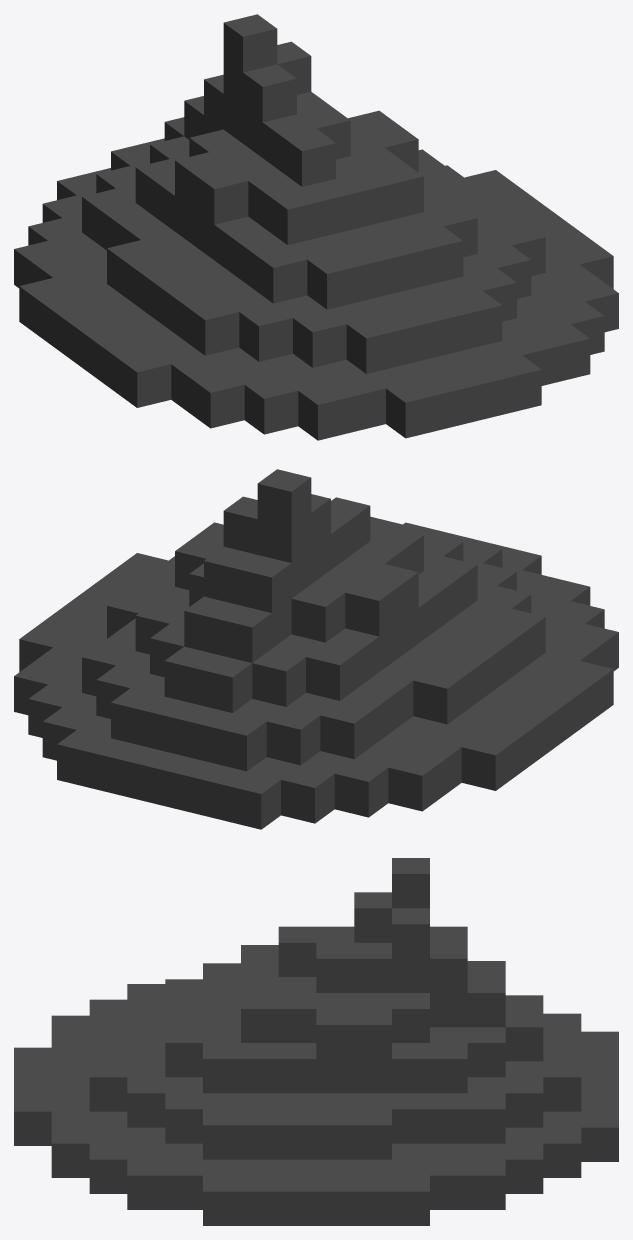
The model's file is Consuela's Hat.obj.
3 views of the same model, one above another, from view 1: azimuth 30°, elevation 25°; view 2: azimuth 150°, elevation 25°; view 3: azimuth 270°, elevation 25° (orthographic). The views are drawn at different scales.
Bounding box in the file's own units: 1.4 × 0.7 × 1.6.
Materials: 1 (1 with a texture image).
